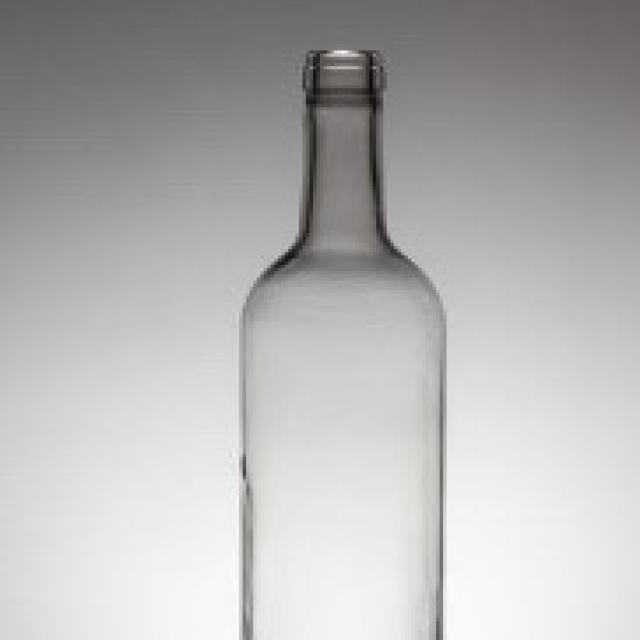electronic: (232, 44, 450, 640)
